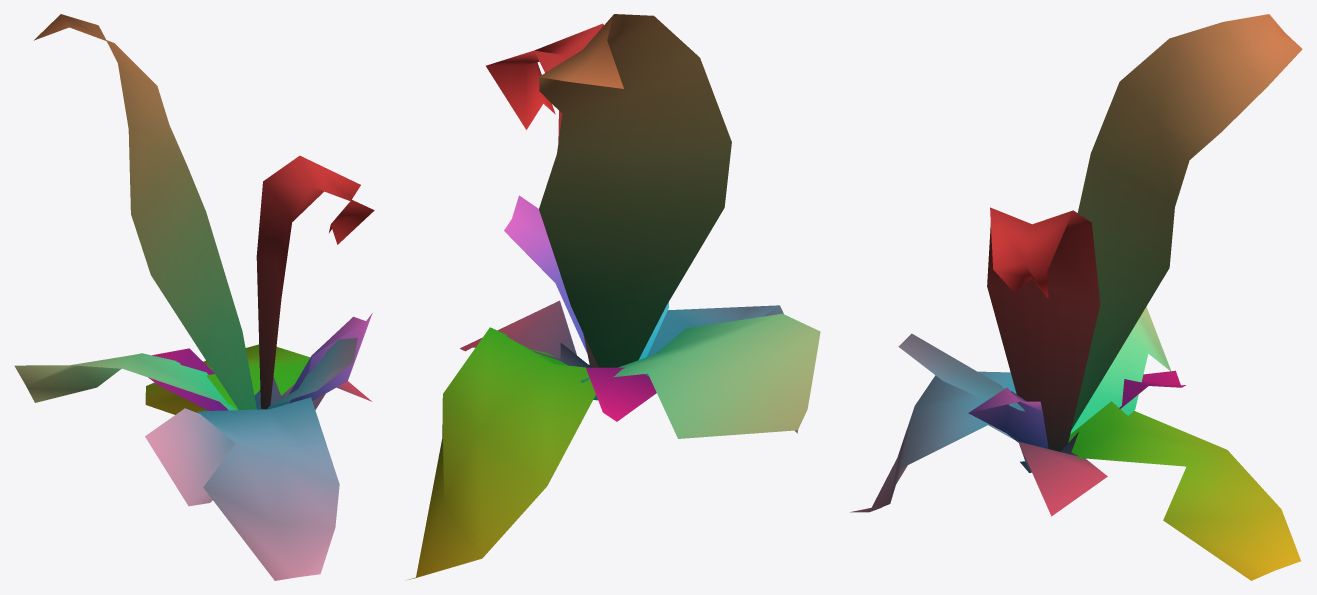
Rendered from Fern_sbslY_High_sbslY_VarH_LOD1.fbx.
3 renders of one model, left to right at view 1: azimuth 30°, elevation 25°; view 2: azimuth 150°, elevation 25°; view 3: azimuth 270°, elevation 25°, orthographic. The views are drawn at different scales.
Parts seen in each view (by area): view 1: _2fdb_VarH_LOD1; view 2: _2fdb_VarH_LOD1; view 3: _2fdb_VarH_LOD1.
Part boxes in pixels (left/top/right/bottom): _2fdb_VarH_LOD1: left=14, top=14, right=374, bottom=580; _2fdb_VarH_LOD1: left=405, top=14, right=820, bottom=580; _2fdb_VarH_LOD1: left=850, top=14, right=1302, bottom=580.
Size of the model in its own units: 34.39 by 47.69 by 40.28.
